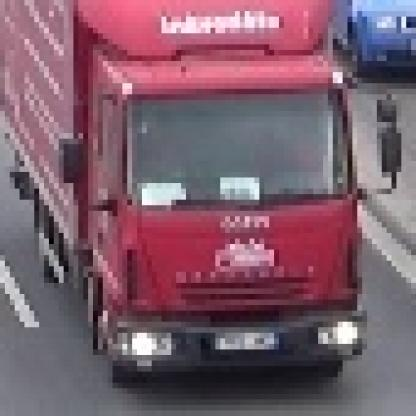truck: (1, 1, 397, 383)
